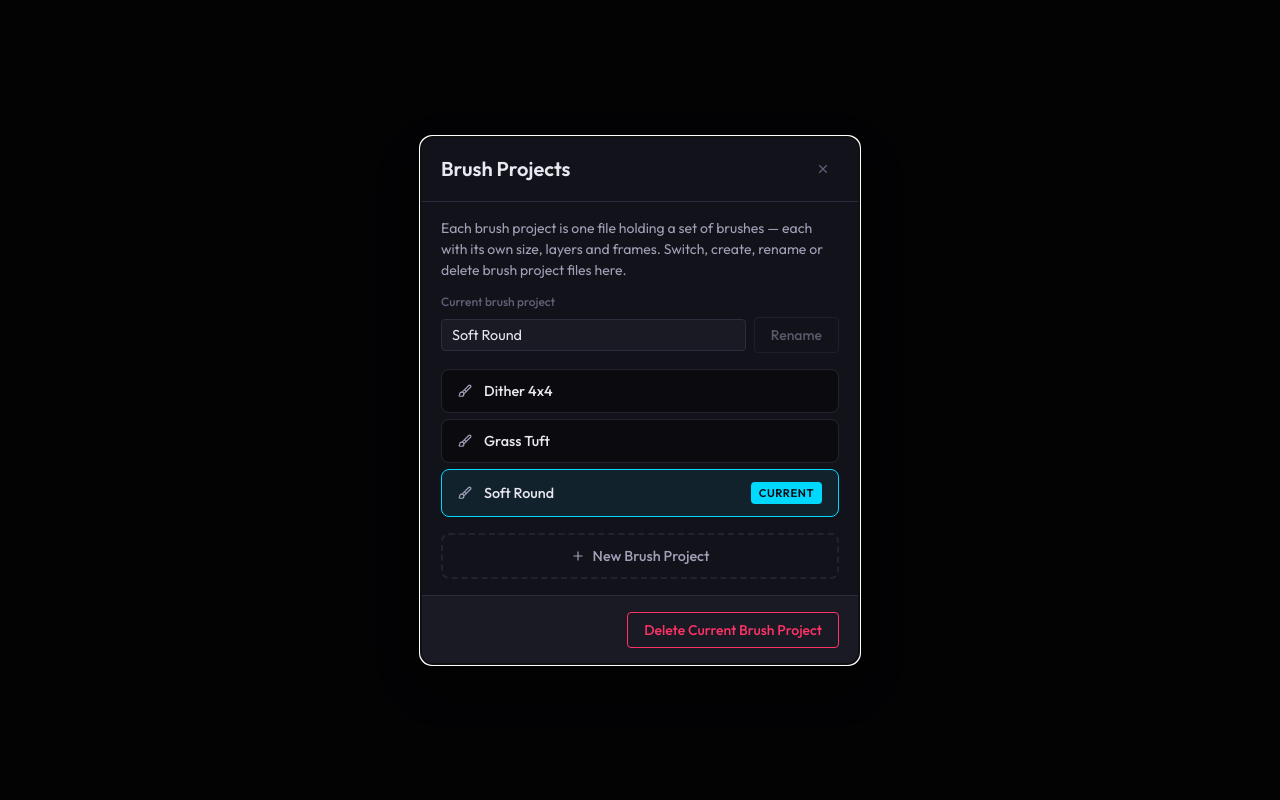
Test: BrushSelectModal — create validates names › a failed create keeps the modal open with an error
Click the button "New Brush Project".
click(640, 556)  # box [441, 532, 839, 578]
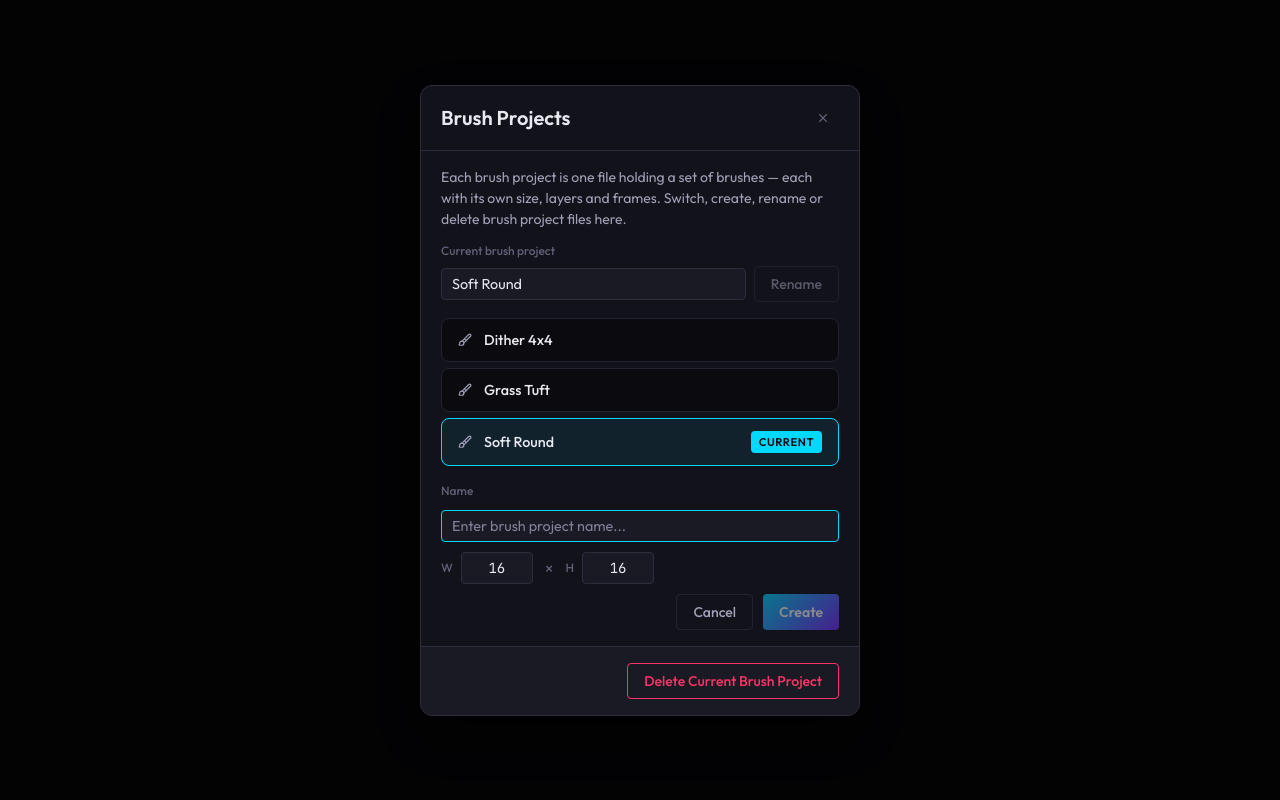
Type "Leaf" into the field labelled "Name".
click(640, 526); type("Leaf")  # box [441, 510, 839, 542]
Then press Enter
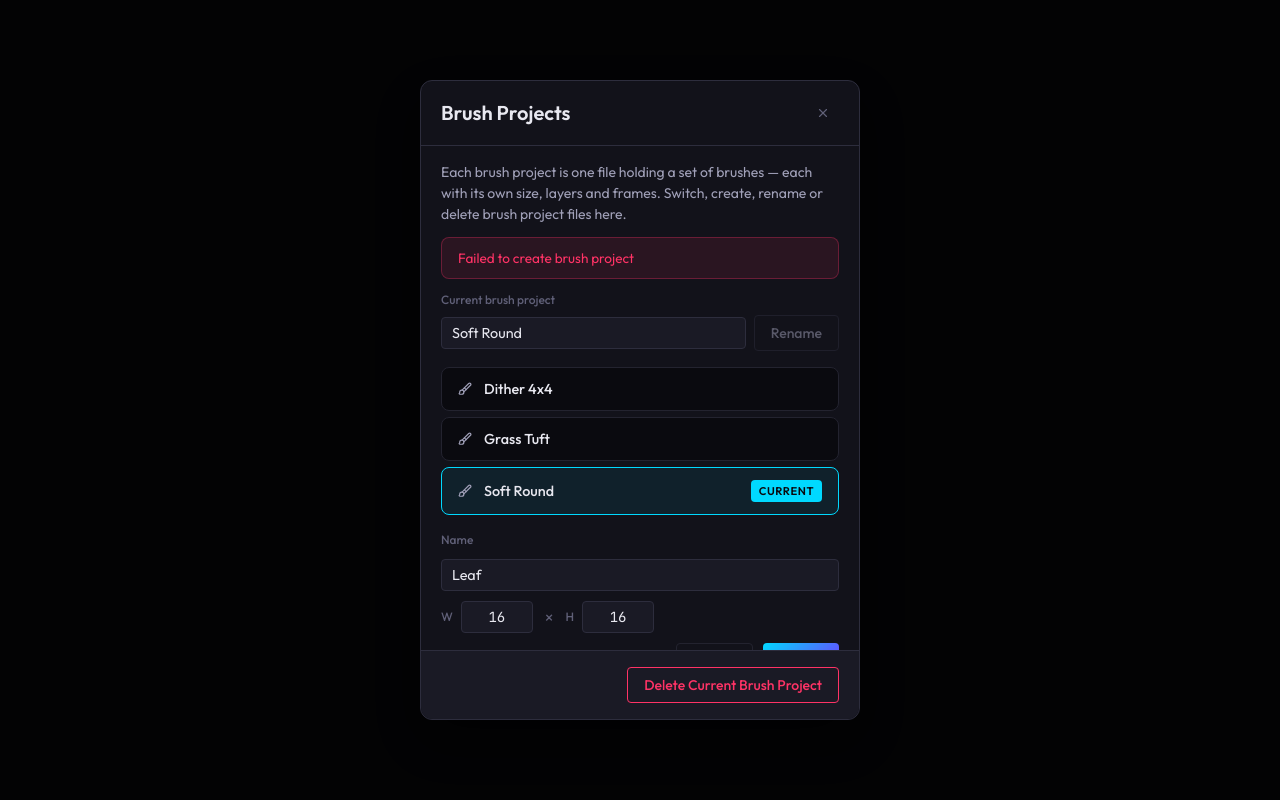
Expected: the message reads "Failed to create brush project", [458, 249, 634, 267]
